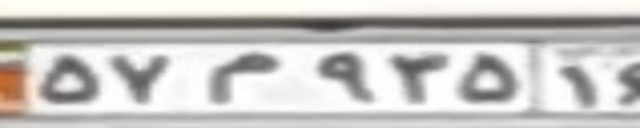1: (560, 64, 601, 107)
3: (391, 52, 447, 104)
5: (37, 54, 98, 104), (462, 53, 516, 101)
6: (613, 60, 639, 107)
7: (106, 53, 167, 105)
9: (318, 53, 380, 102)
mim: (207, 52, 281, 102)
